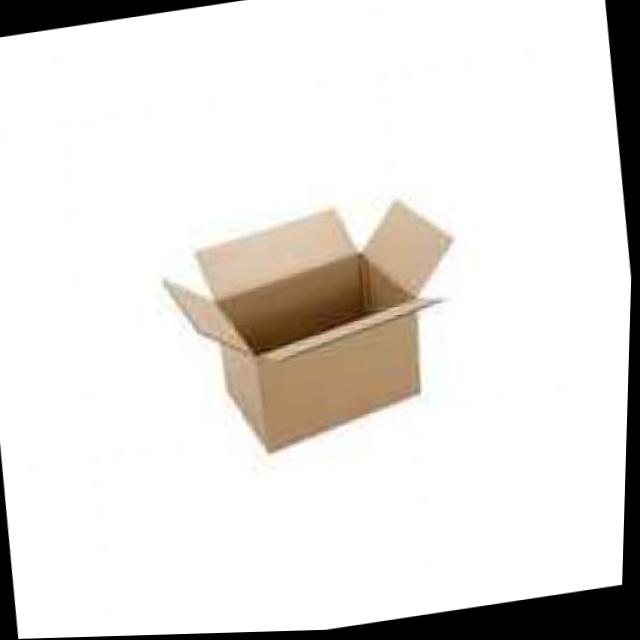box: (142, 165, 574, 510)
